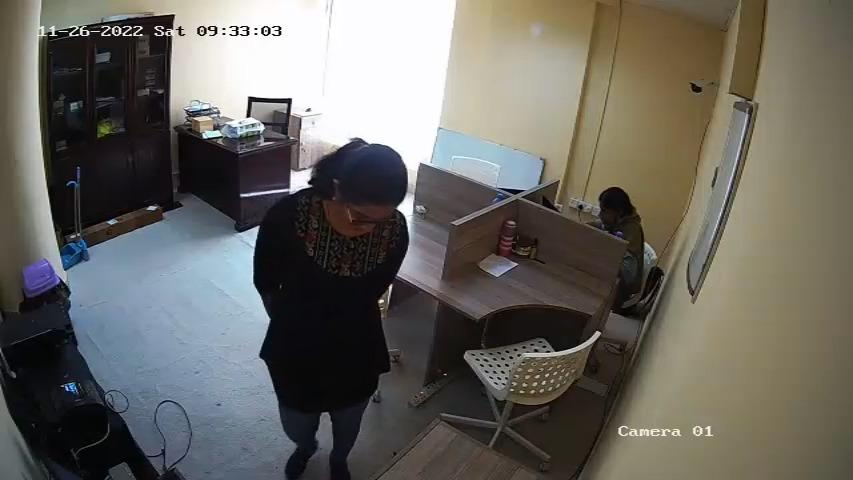no_apron: (276, 234, 388, 398)
